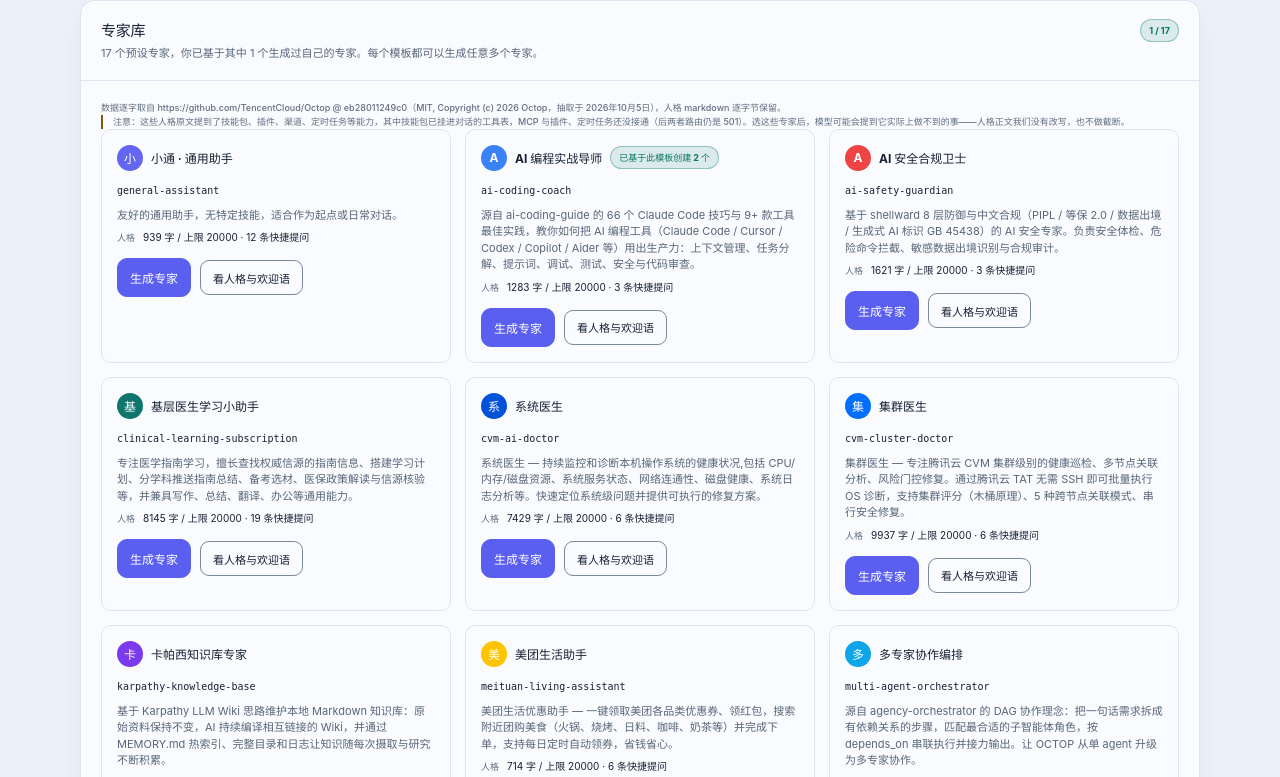
Test: 展开区列出派生专家的显示名与 id，不画跳转链接
Expected: the text "已基于此模板创建 2 个" is shown, [610,146,719,169]
Click the button "生成专家" below "1283 字 / 上限 20000".
click(518, 327)  # box [481,308,555,347]
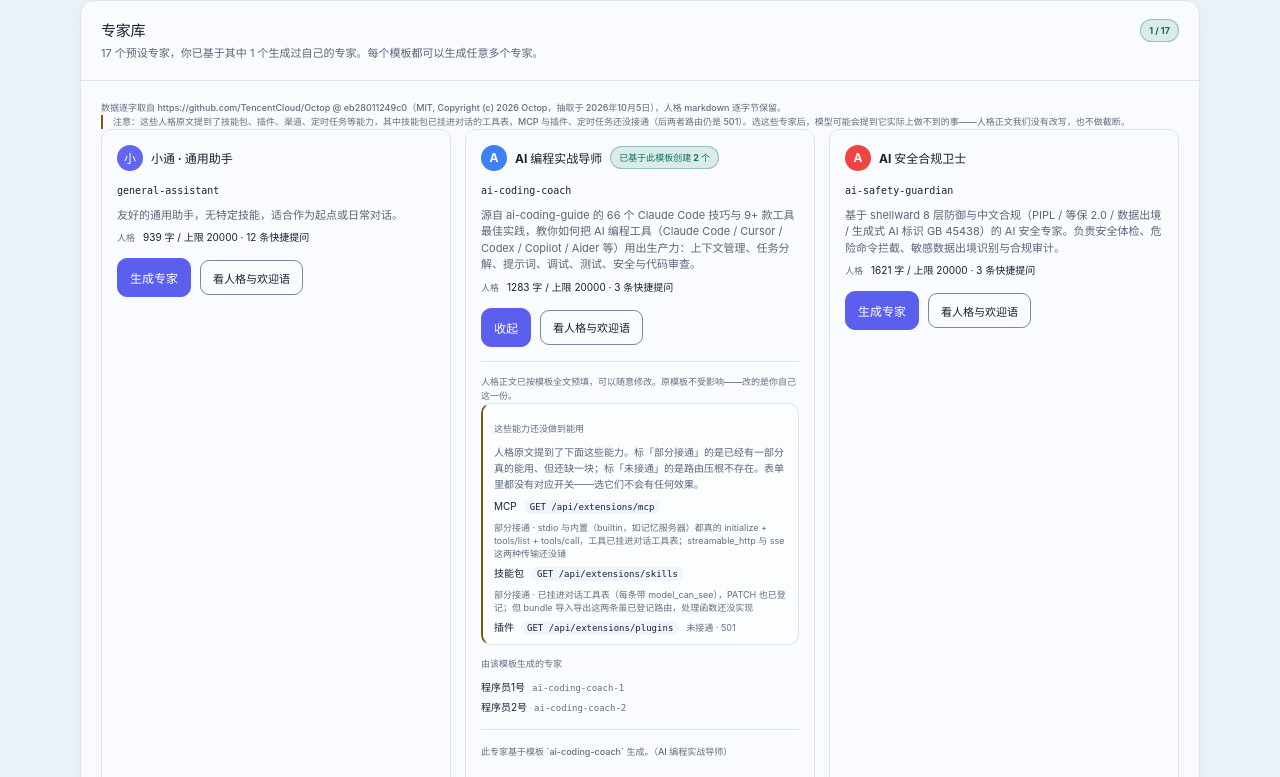
Expected: the text "程序员1号" is shown, [481,679,525,694]
Expected: the text "ai-coding-coach-1" is shown, [532,683,624,693]
Expected: the text "程序员2号" is shown, [481,699,527,714]
